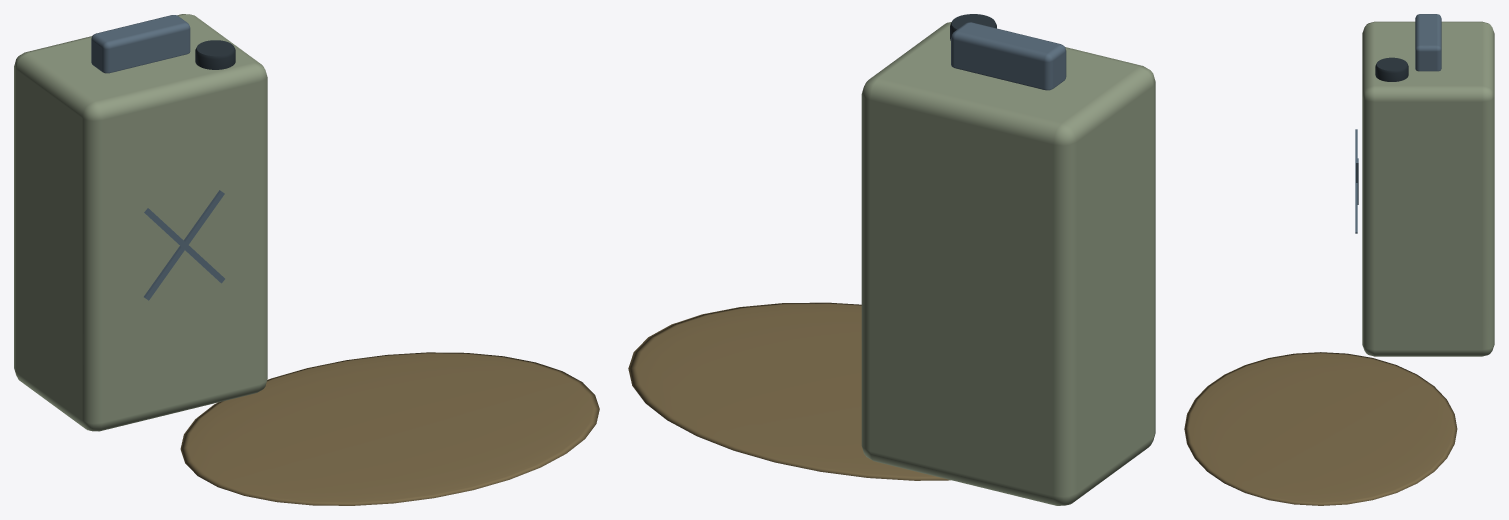
The model's file is fire-diesel.glb.
3 views of the same model, side by side, from view 1: azimuth 30°, elevation 25°; view 2: azimuth 150°, elevation 25°; view 3: azimuth 270°, elevation 25° (orthographic). The views are drawn at different scales.
Visible parts, largest first — view 1: fire-diesel; view 2: fire-diesel; view 3: fire-diesel.
Boxes of the visible parts, x1=… form: fire-diesel: x1=14, y1=14, x2=599, y2=505; fire-diesel: x1=628, y1=14, x2=1155, y2=505; fire-diesel: x1=1184, y1=14, x2=1494, y2=505.
Bounding box in the file's own units: 0.535 × 0.44 × 0.375.
